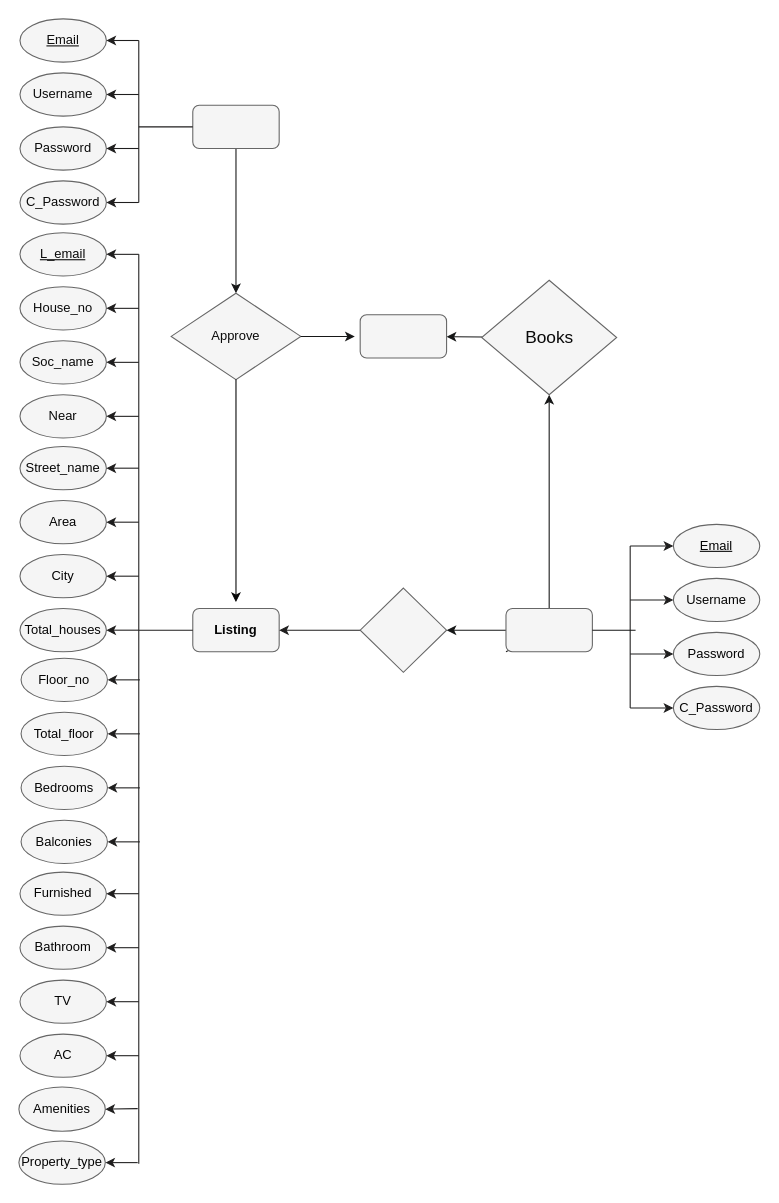
Some shapes in this 779 by 1203 pixel diagram are drawn without their labels. The shapes that lost their labels are listed below. From the top down, each one's box as (x1, y1, x2, y2) in pixels, then its label:
(192, 104, 279, 148): Admin
(359, 314, 447, 358): Rooms
(359, 587, 447, 672): Add
(505, 608, 592, 652): User
